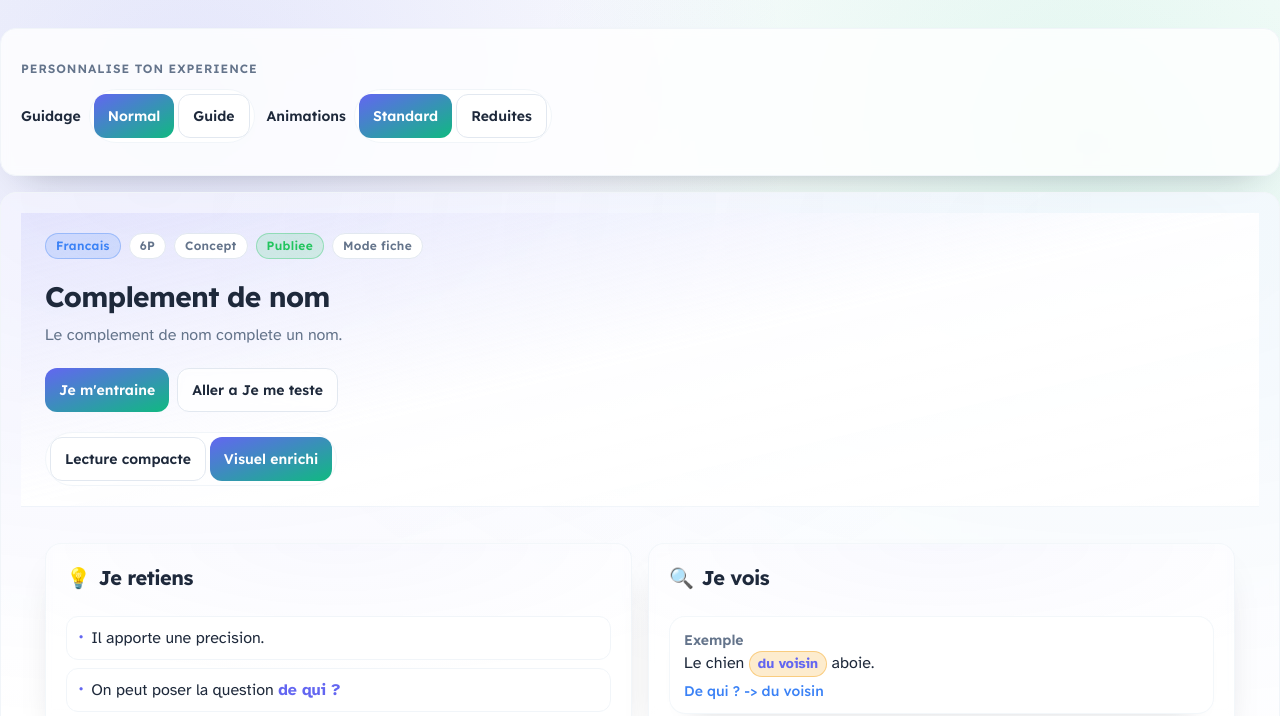
Test: RevisionCardView › updates contextual practice tip when switching training steps
The image size is (1280, 716).
What coordinates should you click on to do the following:
click the button with test id "revision-sheet-to-practice"
I would click on:
 (107, 390)
Its box is [45,368,169,412].
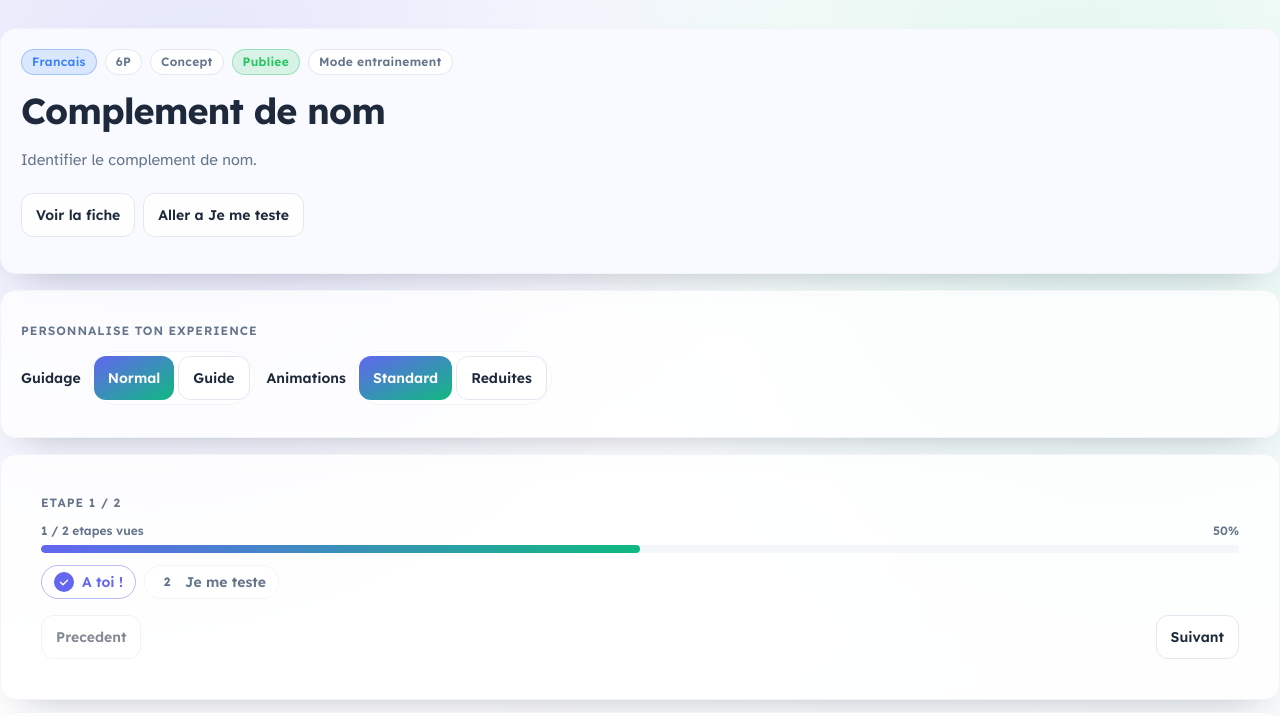
What coordinates should you click on to do the following:
click the tab with aria-label "Etape 2: Je me teste"
I would click on:
 (211, 582)
Its box is [144,565,279,599].
(page scrolled)
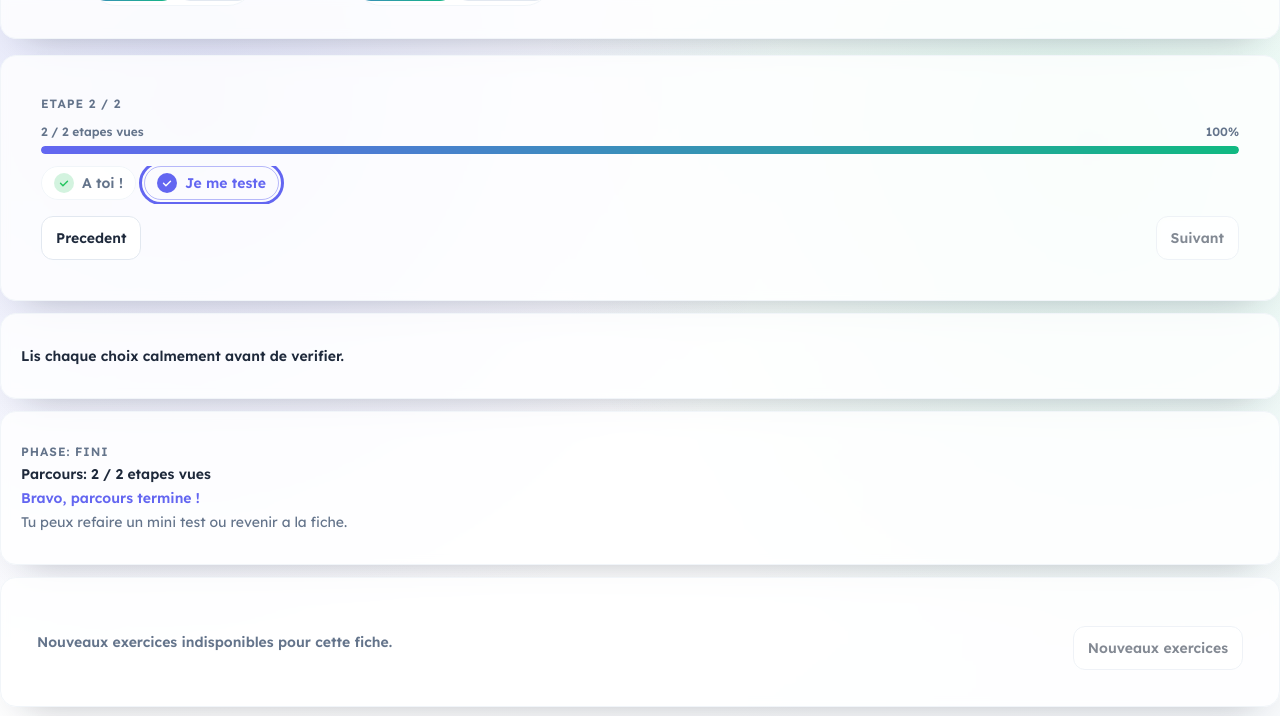
Result: the element with test id "revision-practice-step-tip" reads "Lis chaque choix calmement avant de verifier." at [21,347,344,365]
